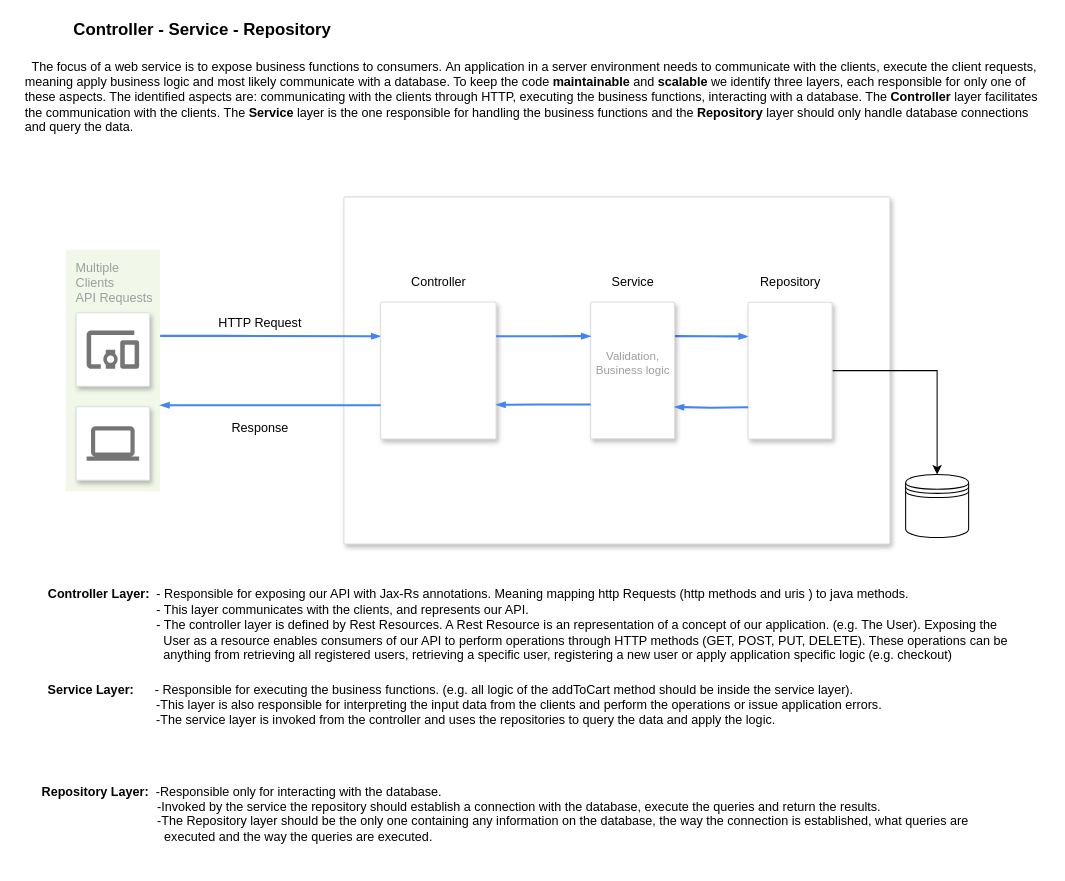
This 1065x881 diagram has some shape labels left out. Here are the shapes that lost their labels. From the top down, the centre of each, then its label:
At point 438,371: "Exposes endpoints Makes basic validations".
At point 790,371: "DB interaction".
